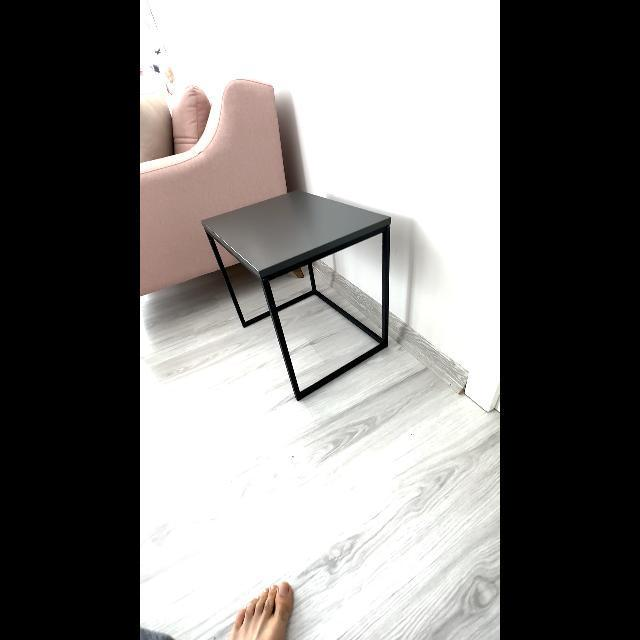coffee table: (201, 185, 399, 401)
